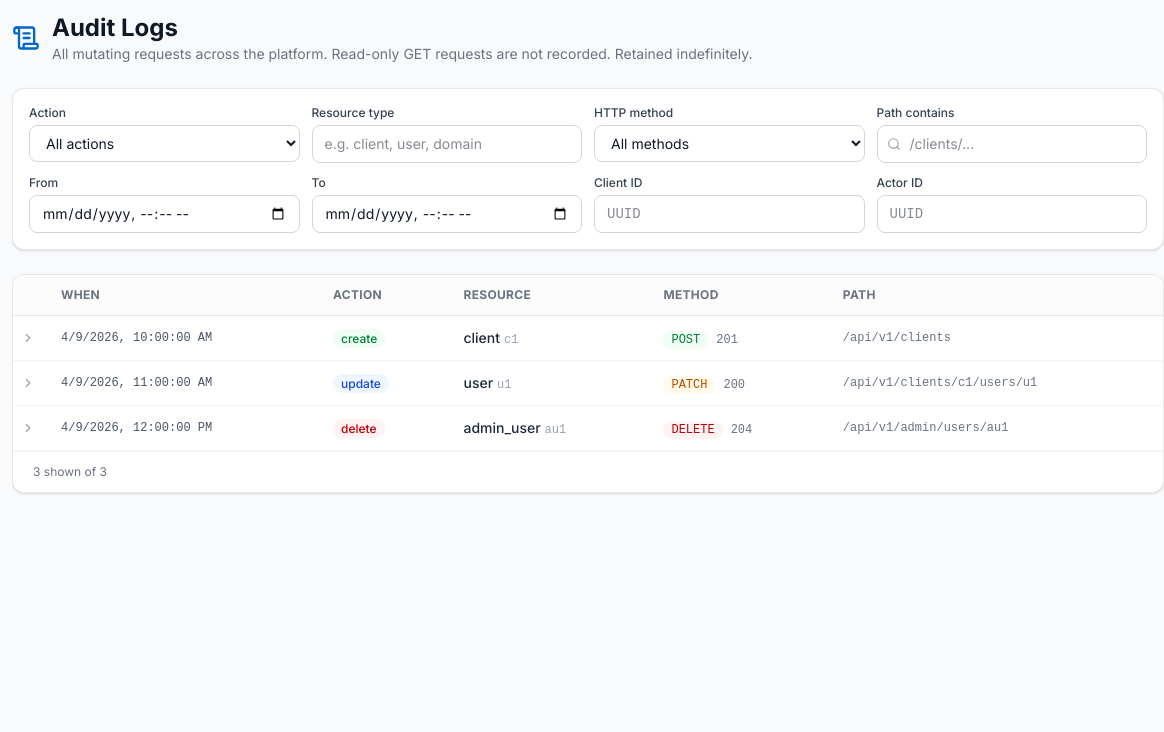
Test: AuditLogs page › shows and hides the Clear filters button based on active filters
Select "Create" in the dropdown with test id "filter-action-type" at (164, 144), box [29, 125, 300, 162]
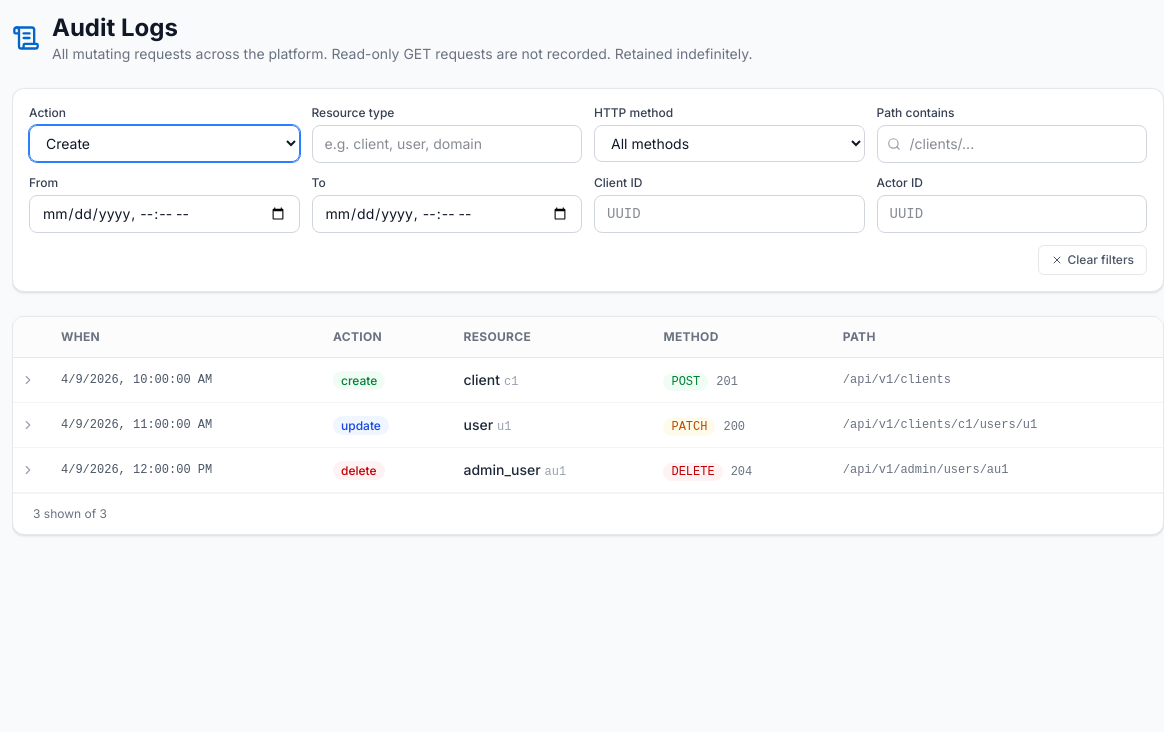
Result: the button with test id "clear-filters" is shown
Click the button with test id "clear-filters" at (1093, 260), box [1038, 245, 1147, 275]
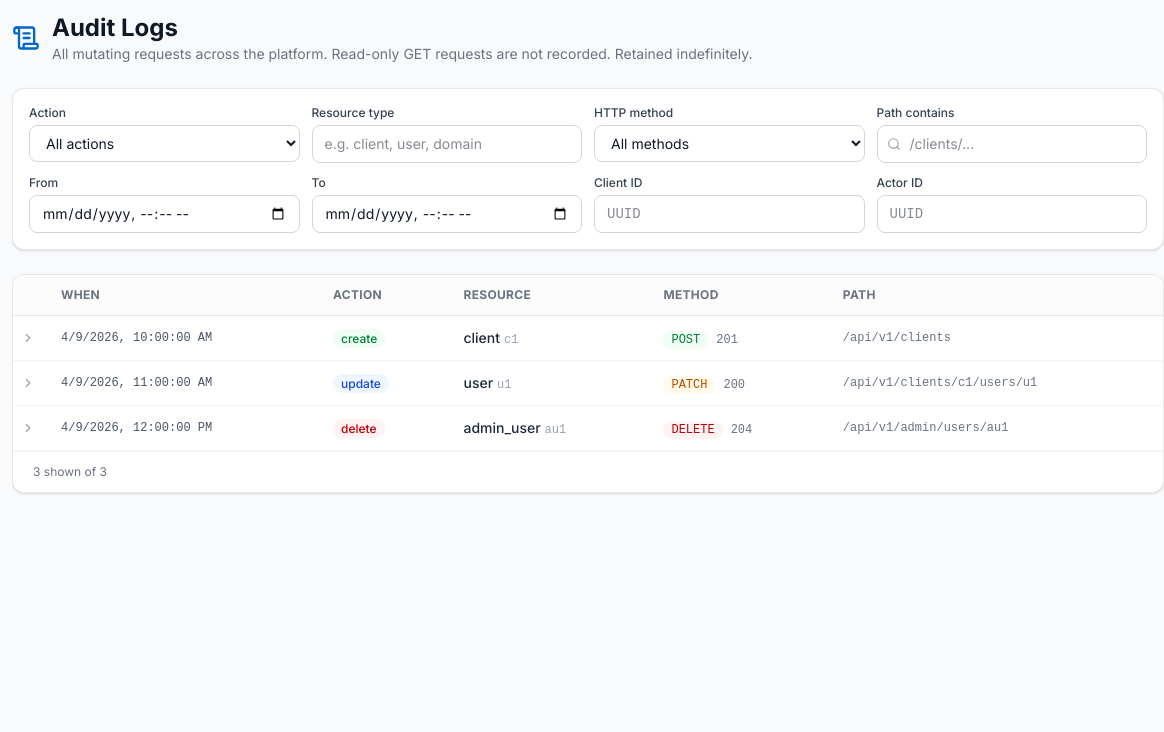
Result: the button with test id "clear-filters" is gone
